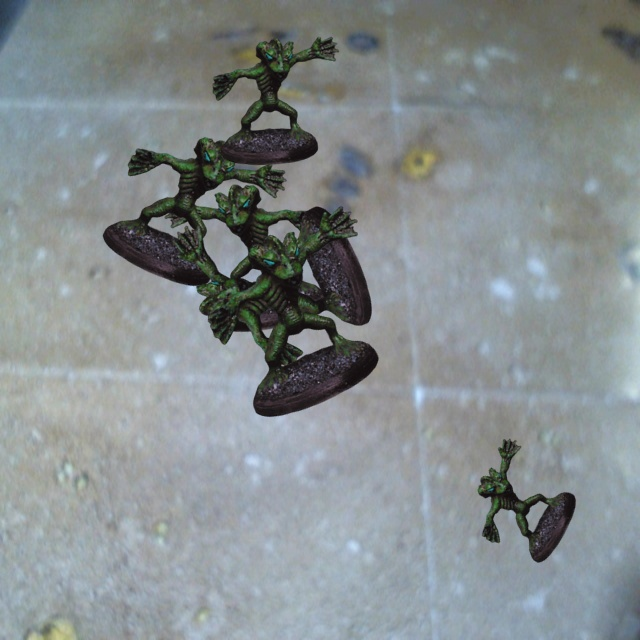pieza_juego: (208, 206, 378, 416), (172, 206, 371, 367), (103, 137, 286, 285), (164, 184, 329, 331), (212, 37, 338, 164), (477, 439, 575, 562)
